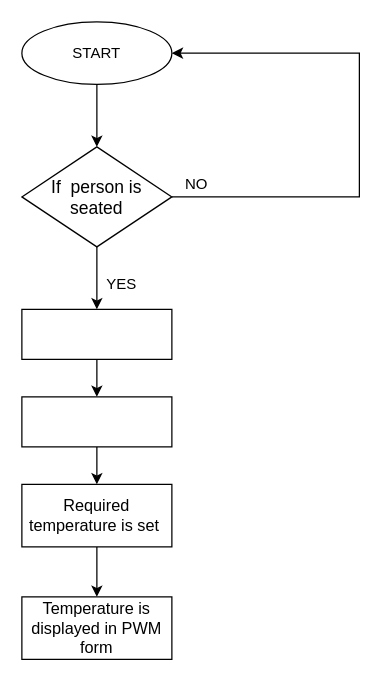
The diagram is 391 pixels wide and 681 high, and some of its shapes have lost their labels. The centre of each missing label's shape, as x and y in pixels:
Heater ON: the point at 96,421
Temperature request: the point at 96,333
